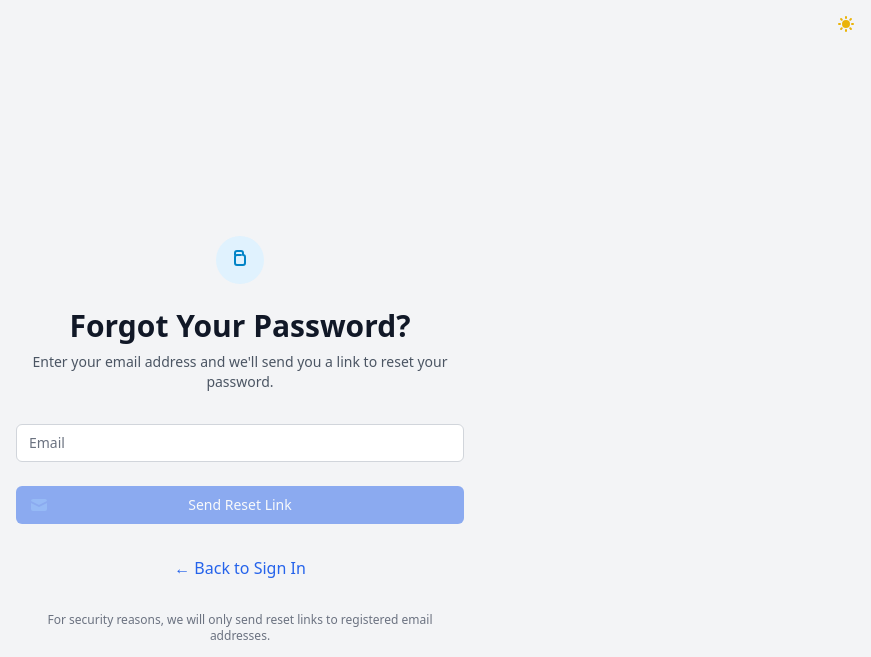
Test case: ForgotPassword Component › Form Submission › should show loading state during submission
The image size is (871, 657).
Type "test@example.com" into the field with id "email-address" at (240, 443), box [16, 424, 464, 462]
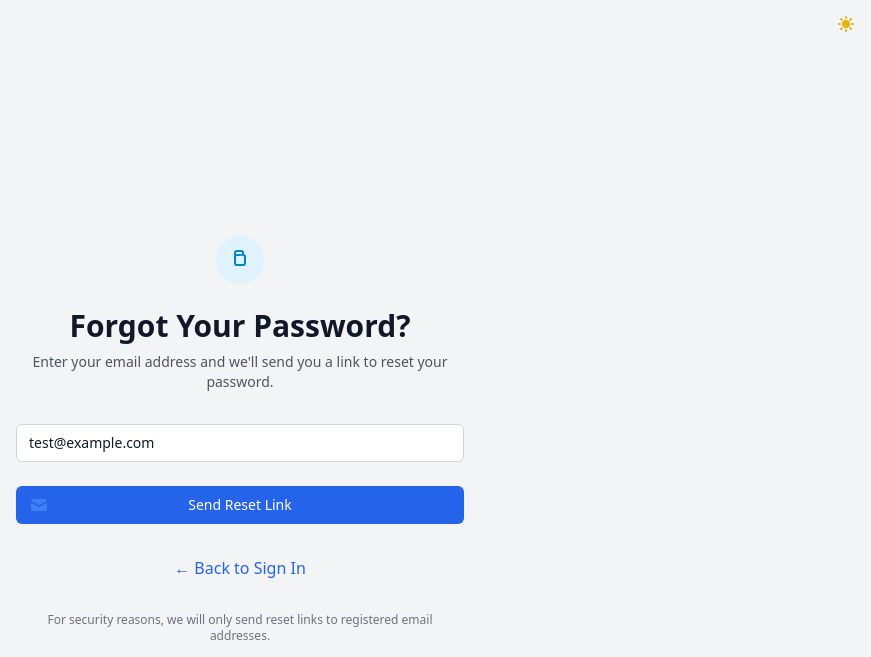
Submit the form, box [16, 424, 464, 524]
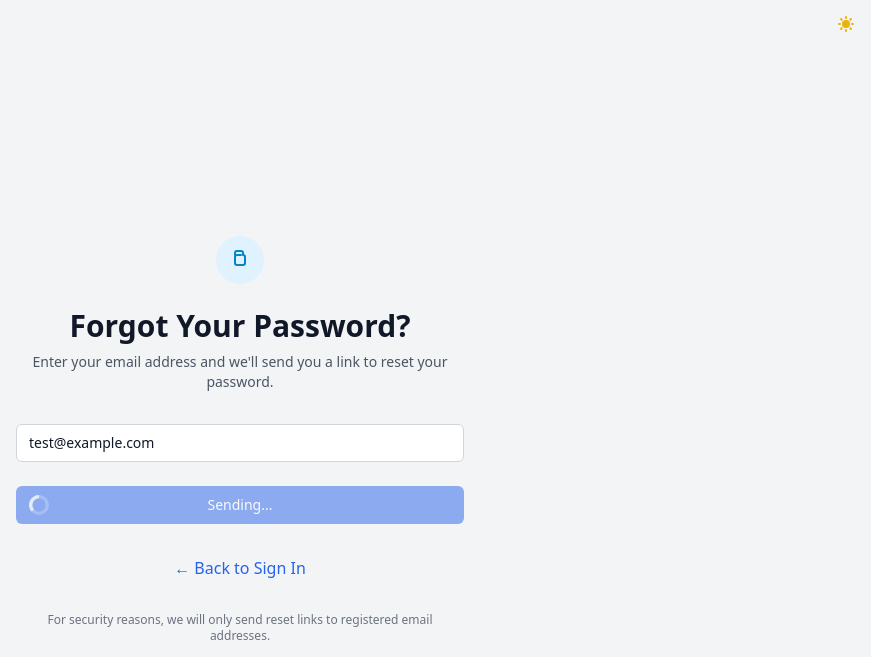
Result: the submit button reads "Sending..." at [16, 486, 464, 524]
Result: the submit button is disabled at [16, 486, 464, 524]
